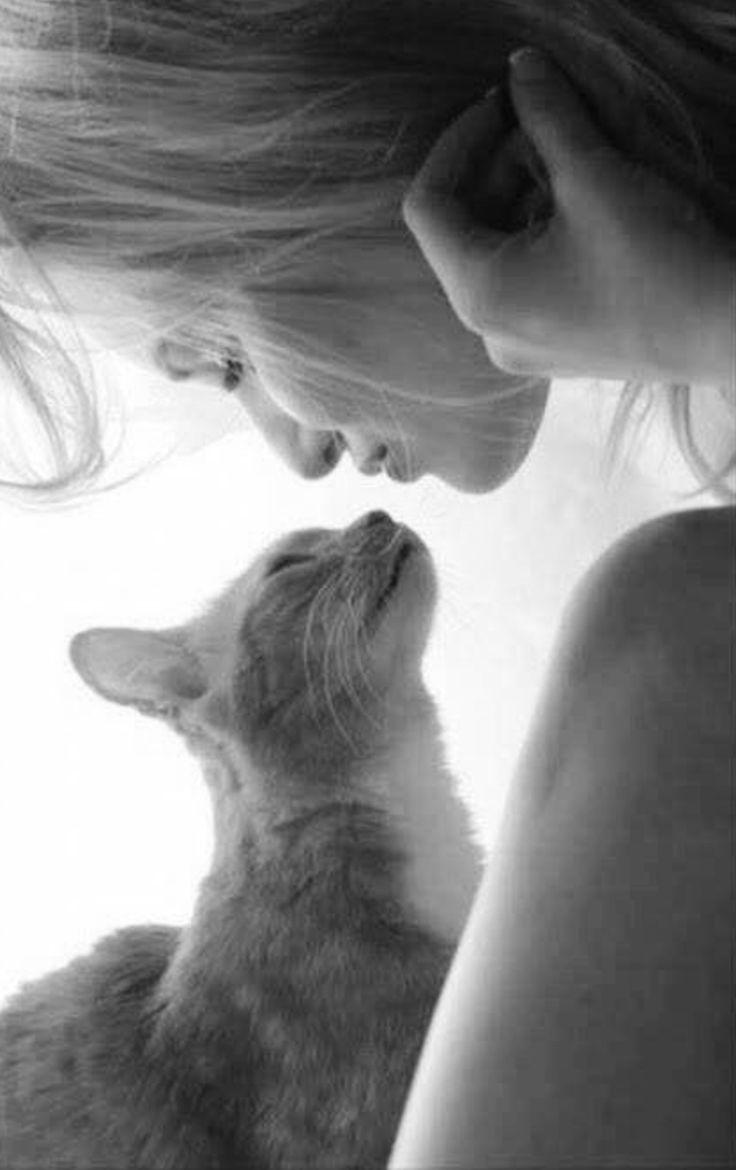kedo: (0, 512, 482, 1170)
